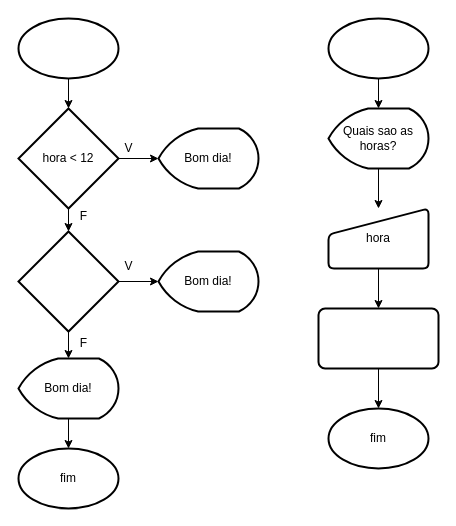
Some shapes in this 456 by 526 pixel diagram are drawn without their labels. The box of each missing label's shape, as (x1, y1, x2, y2) in pixels:
hora < 18: (17, 230, 119, 332)
inicio: (327, 17, 429, 79)
saudacao (hora : inteiro): (17, 17, 119, 79)
saudacao (hora): (317, 307, 439, 369)
